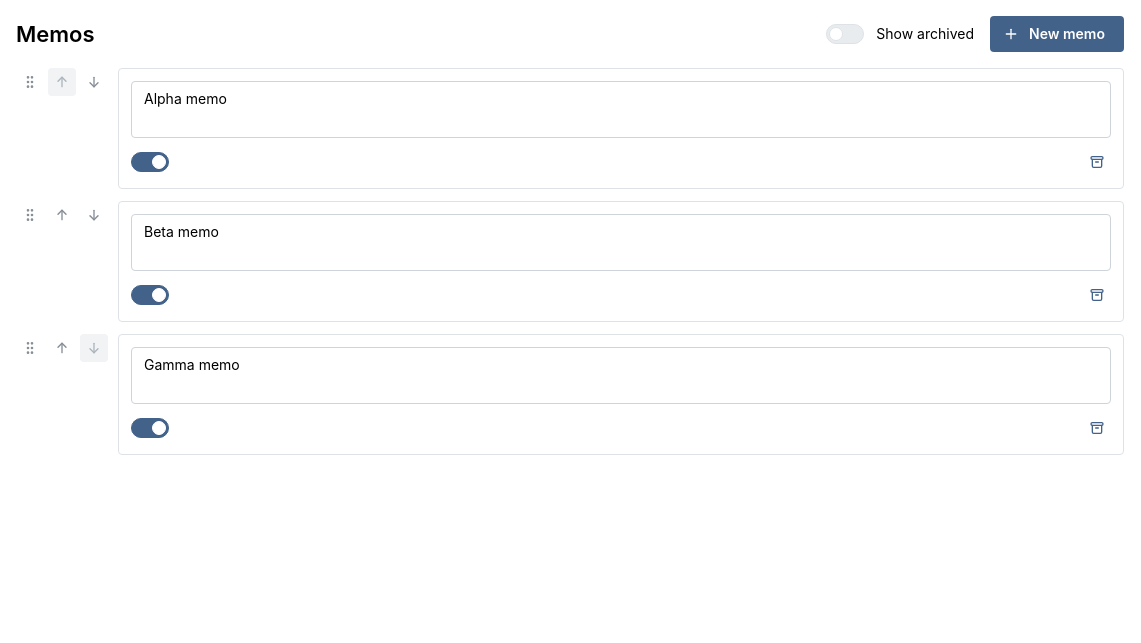
Scenario: the archived memos are outside the reorder (DoD-7) › DoD-7 (US-128.AC-1): the working rows carry reorder controls and the archived rows carry NONE
Expected: the number of buttons named "Move memo 1 up" is 6, left=48, top=68, right=76, bottom=96; left=80, top=68, right=108, bottom=96; left=48, top=201, right=76, bottom=229; left=80, top=201, right=108, bottom=229; left=48, top=334, right=76, bottom=362; left=80, top=334, right=108, bottom=362
Expected: the number of buttons named "Drag memo 1 to reorder" is 3, left=16, top=68, right=44, bottom=96; left=16, top=201, right=44, bottom=229; left=16, top=334, right=44, bottom=362
# Now reveal the archived section — a fourth row appears on screen...
Click the 1st switch labelled "Show archived" at point(900, 34), box left=826, top=24, right=974, bottom=44
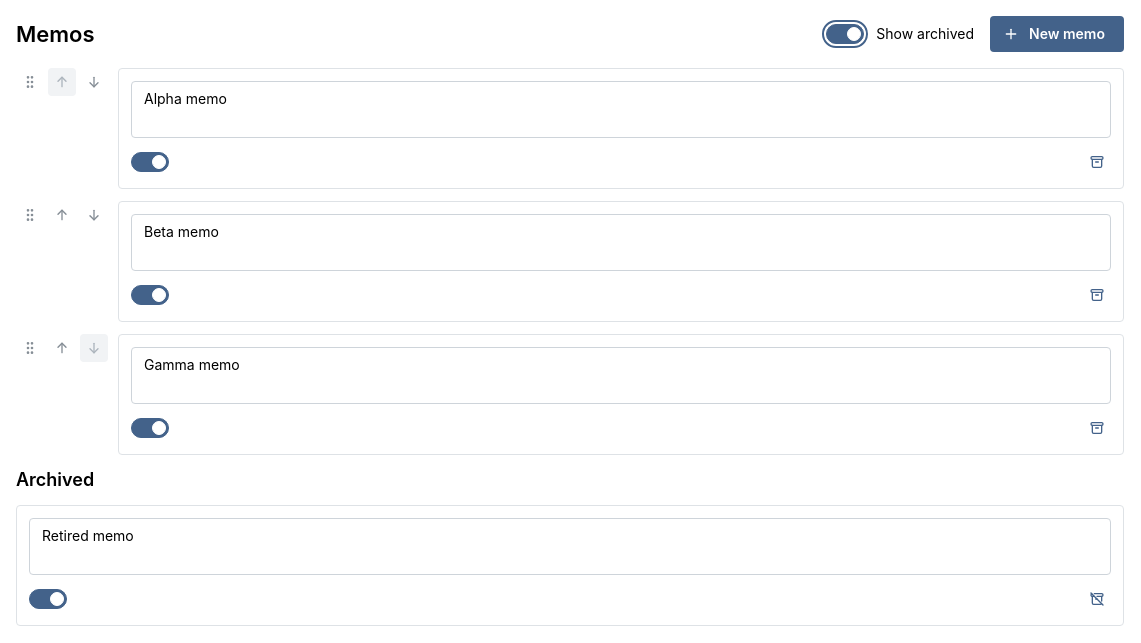
Expected: the number of text boxes is 4, left=131, top=81, right=1111, bottom=138; left=131, top=214, right=1111, bottom=271; left=131, top=347, right=1111, bottom=404; left=29, top=518, right=1111, bottom=575
Expected: the 2nd text box showing "Retired memo" is shown, left=29, top=518, right=1111, bottom=575
Expected: the number of buttons named "Restore memo 1" is 1, left=1083, top=585, right=1111, bottom=613
